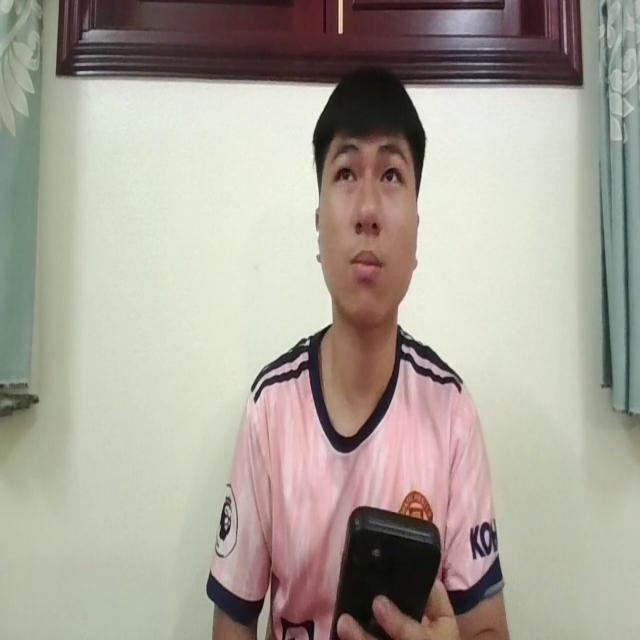phone: (329, 501, 442, 640)
student: (206, 66, 509, 640)
